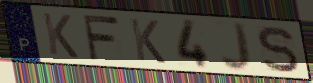4: (174, 18, 212, 70)
F: (80, 13, 121, 61)
J: (220, 20, 254, 73)
K: (40, 11, 81, 60), (128, 16, 168, 66)
S: (254, 24, 301, 74)
